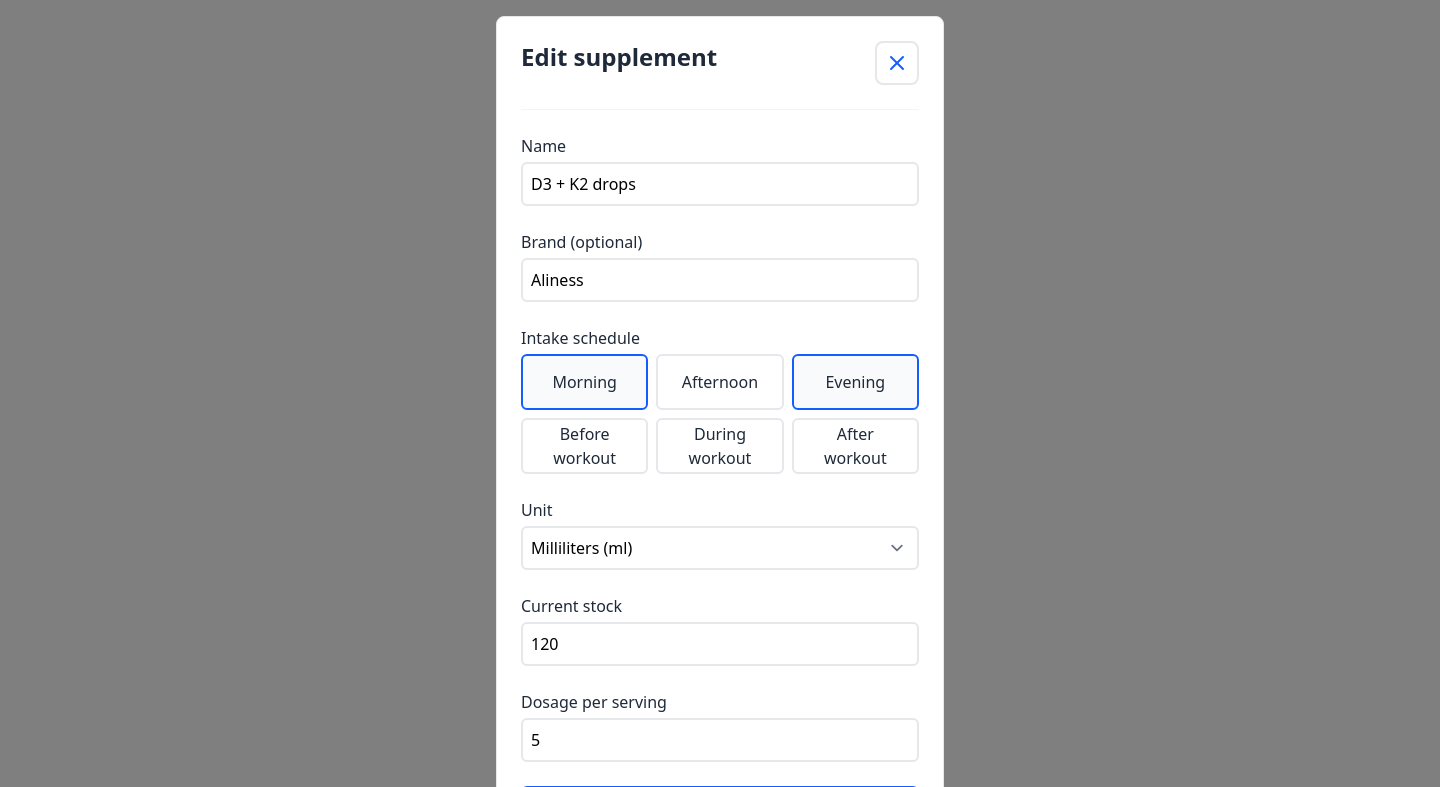
Test: SupplementFormModal › displays an error message when submitting with dosage per serving equal to 0
using fireEvent, because of the min attribue of the input restricts typing it in as a user
In the number field labelled "Dosage per serving": coordinates (720, 740) [521,718,919,762], type "0"
(page scrolled)
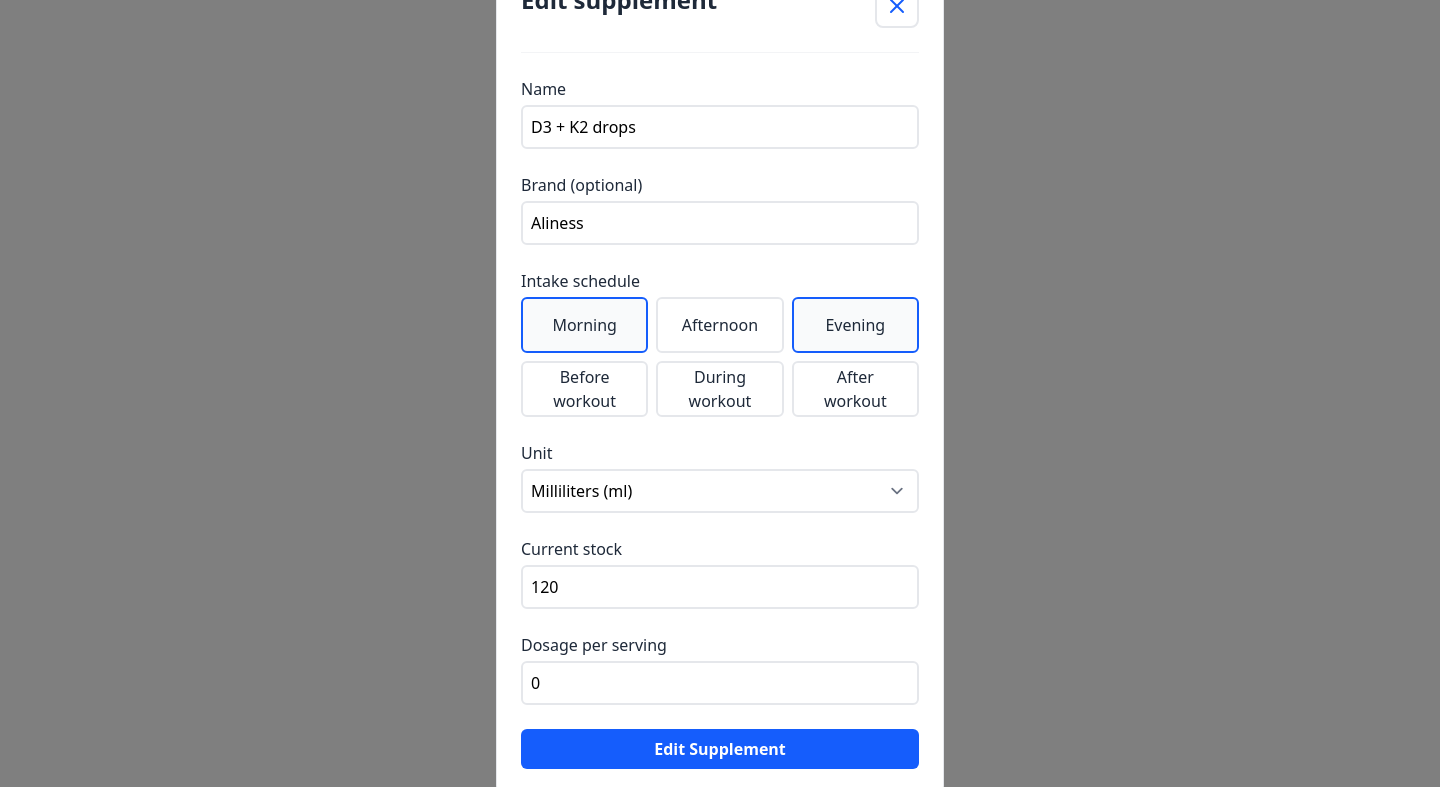
Submit the form named "dosage per serving", box [521,77,919,769]
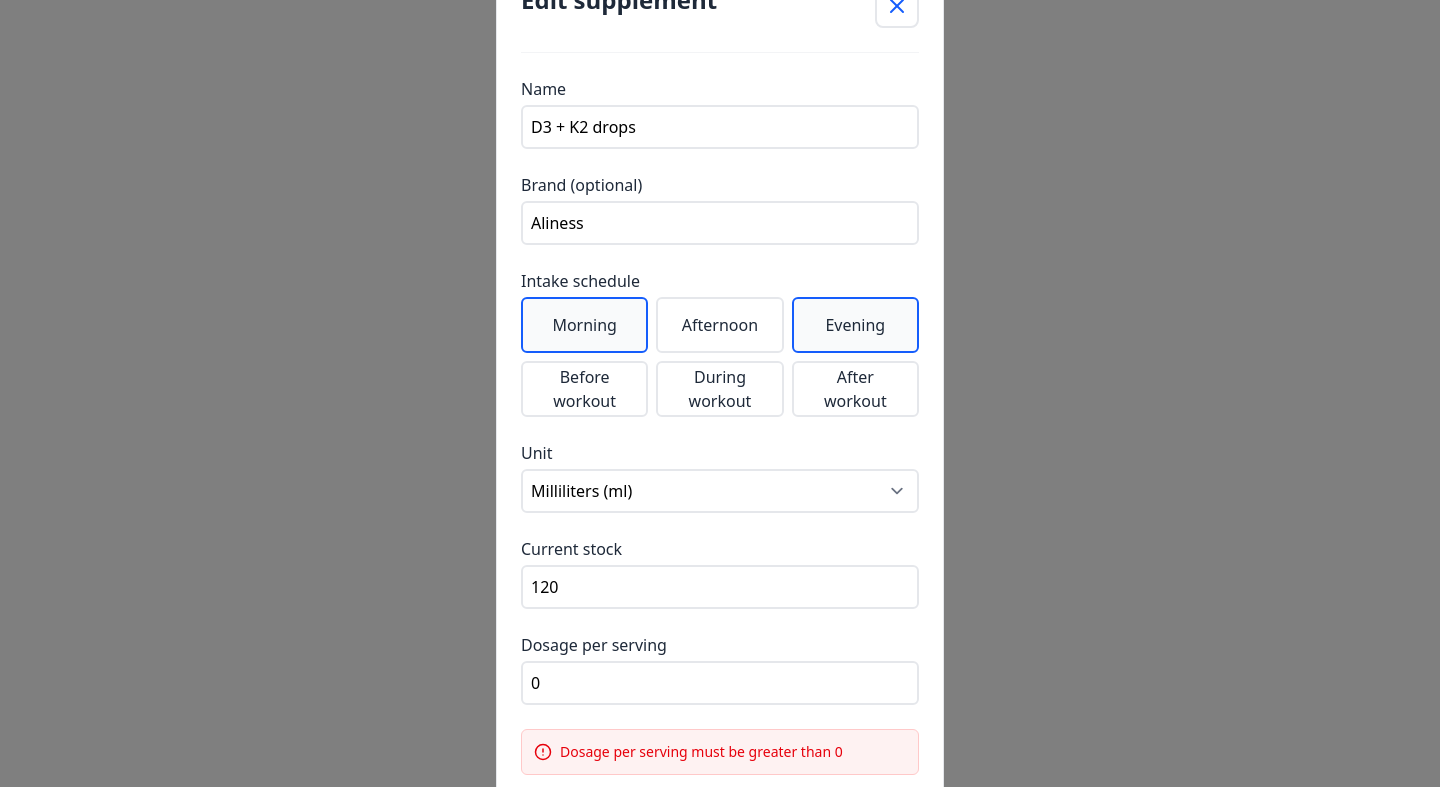
Now the text "Dosage per serving must be greater than 0" is shown, box [560,742,843,762]
